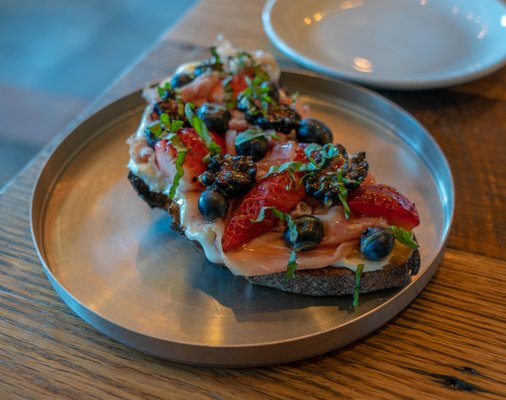sushi: (29, 5, 498, 373), (261, 1, 505, 94)
